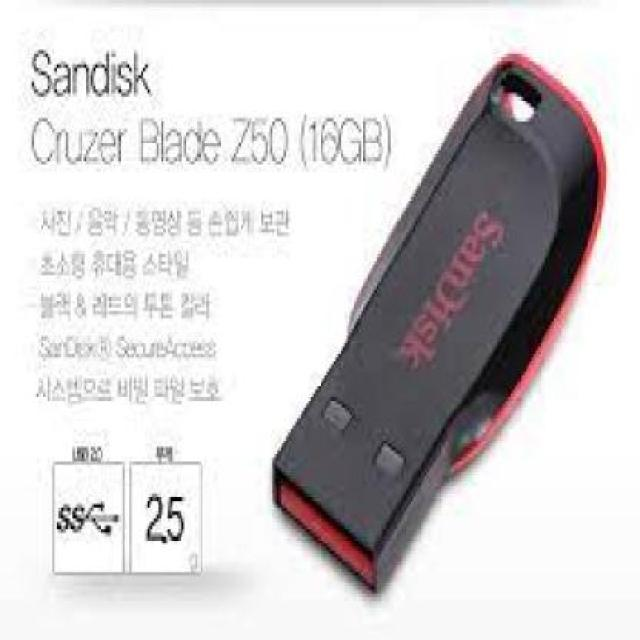Flashdisk: (271, 43, 611, 600)
